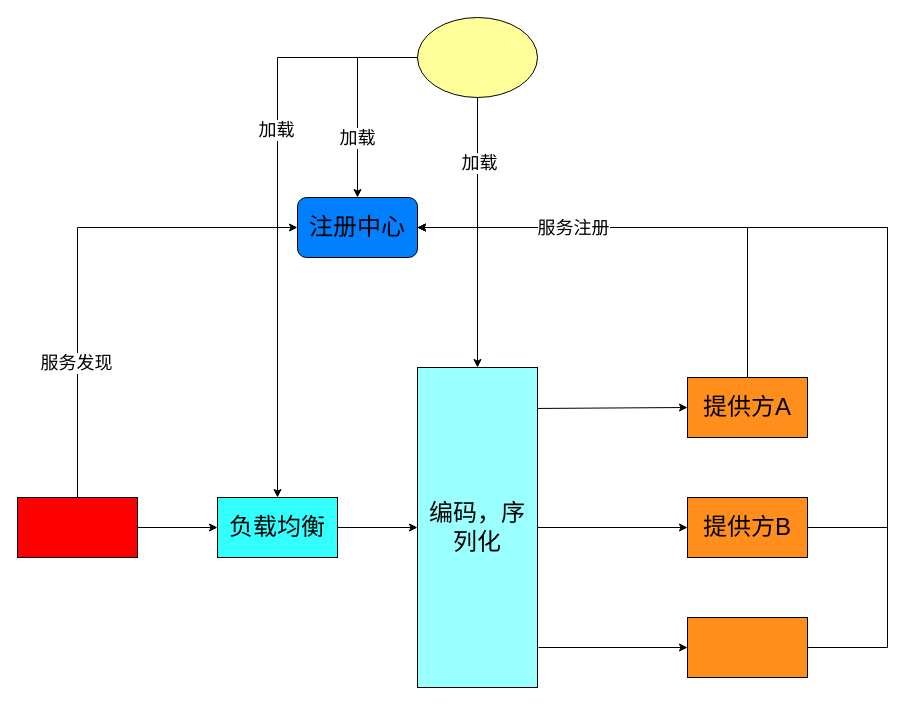
Image size: 913x705. Some labels were removed from this diagram. Each missing label, with the centre of its shape:
SPI: the point at 477,57
提供方C: the point at 747,647
调用方: the point at 77,527
